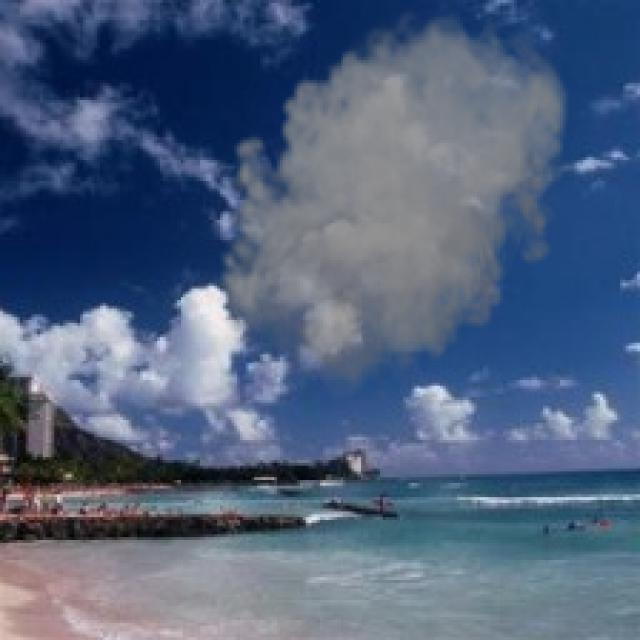smoke: (209, 3, 574, 411)
